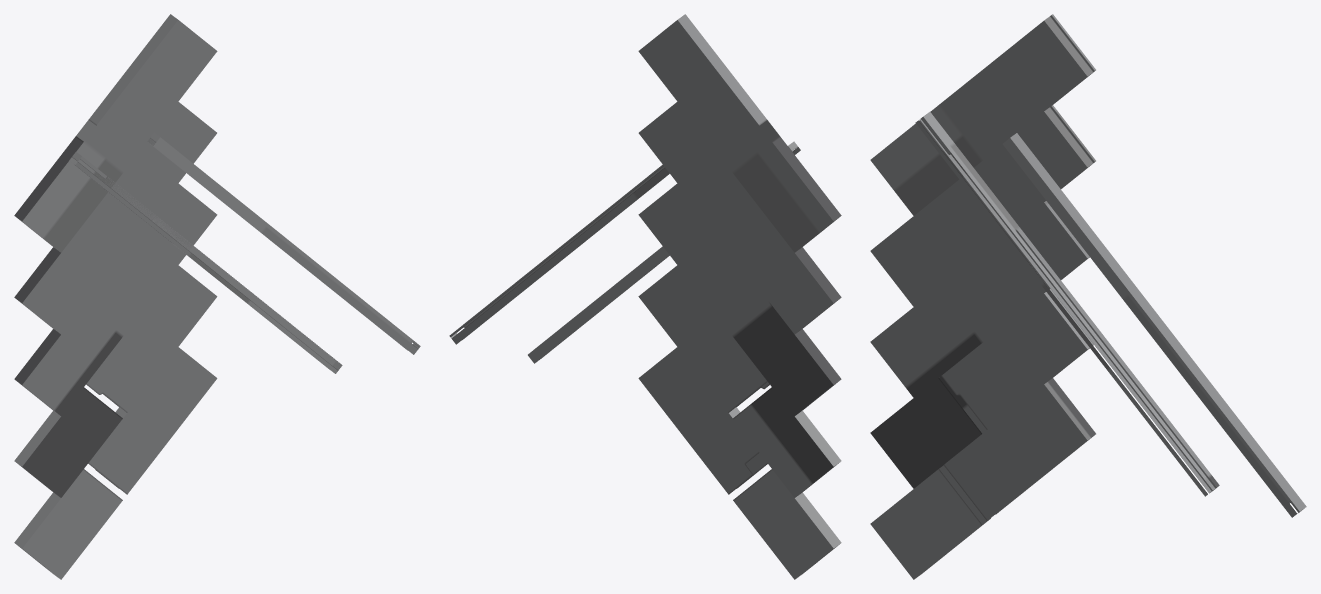
The picture shows the model from 3 angles, left to right: view 1: azimuth 30°, elevation 25°; view 2: azimuth 150°, elevation 25°; view 3: azimuth 330°, elevation 25°; orthographic projection. The views are drawn at different scales.
Size of the model in its own units: 1.18 by 1.52 by 0.0736.
